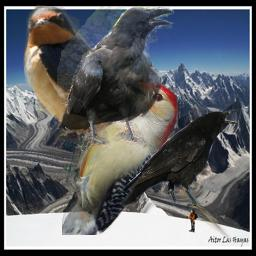Crow: (57, 6, 174, 146), (118, 108, 240, 212)
Swallow: (22, 5, 237, 246)
Woodpecker: (62, 69, 178, 235)
